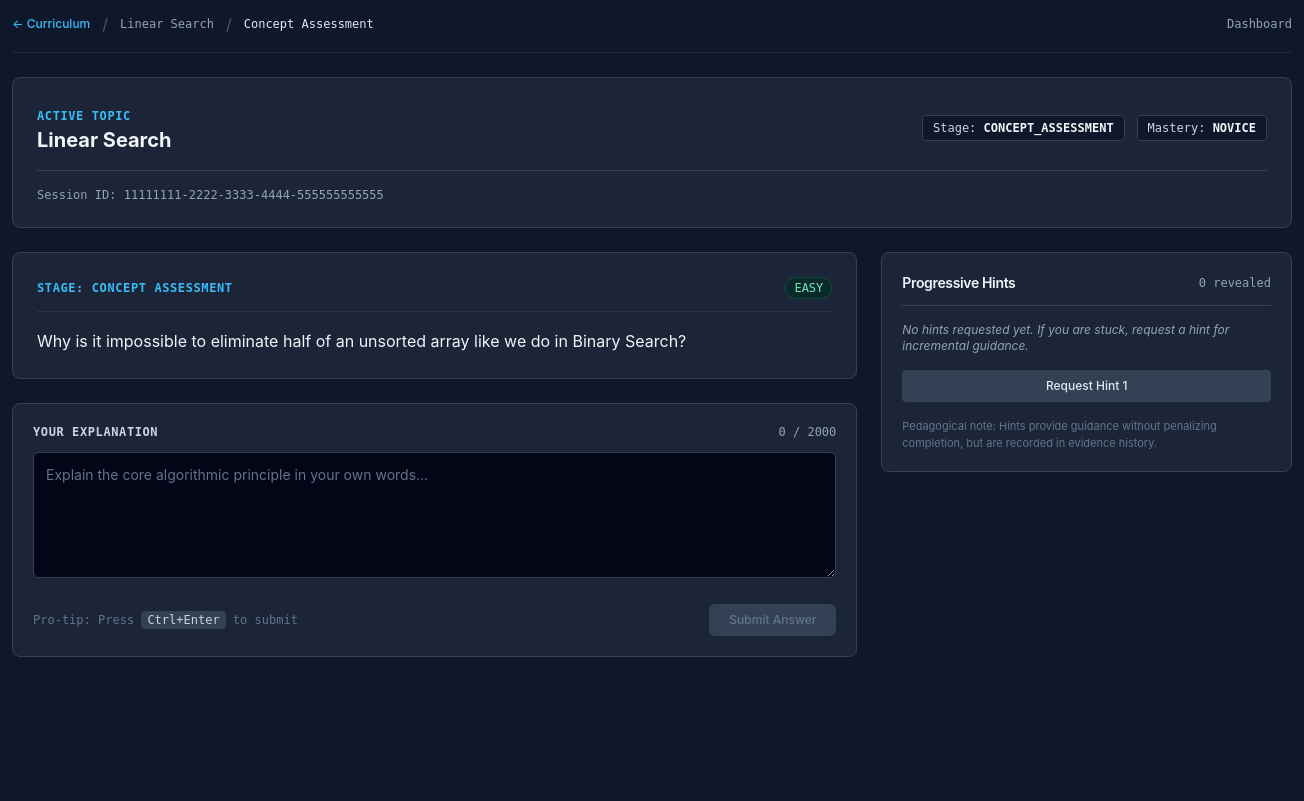
Test: LearningWorkspace Component › submits answer successfully, displays PASS evaluation, and advances to next stage
Expected: the element with test id "active-workspace" is shown, [12, 252, 1292, 657]
Expected: the button with test id "btn-submit-answer" is disabled, [709, 604, 836, 636]
# Type answer
Step 1. Type "In an unsorted array, no element order is known." into the text box labelled "Your Explanation" → (435, 515), box [33, 452, 836, 578]
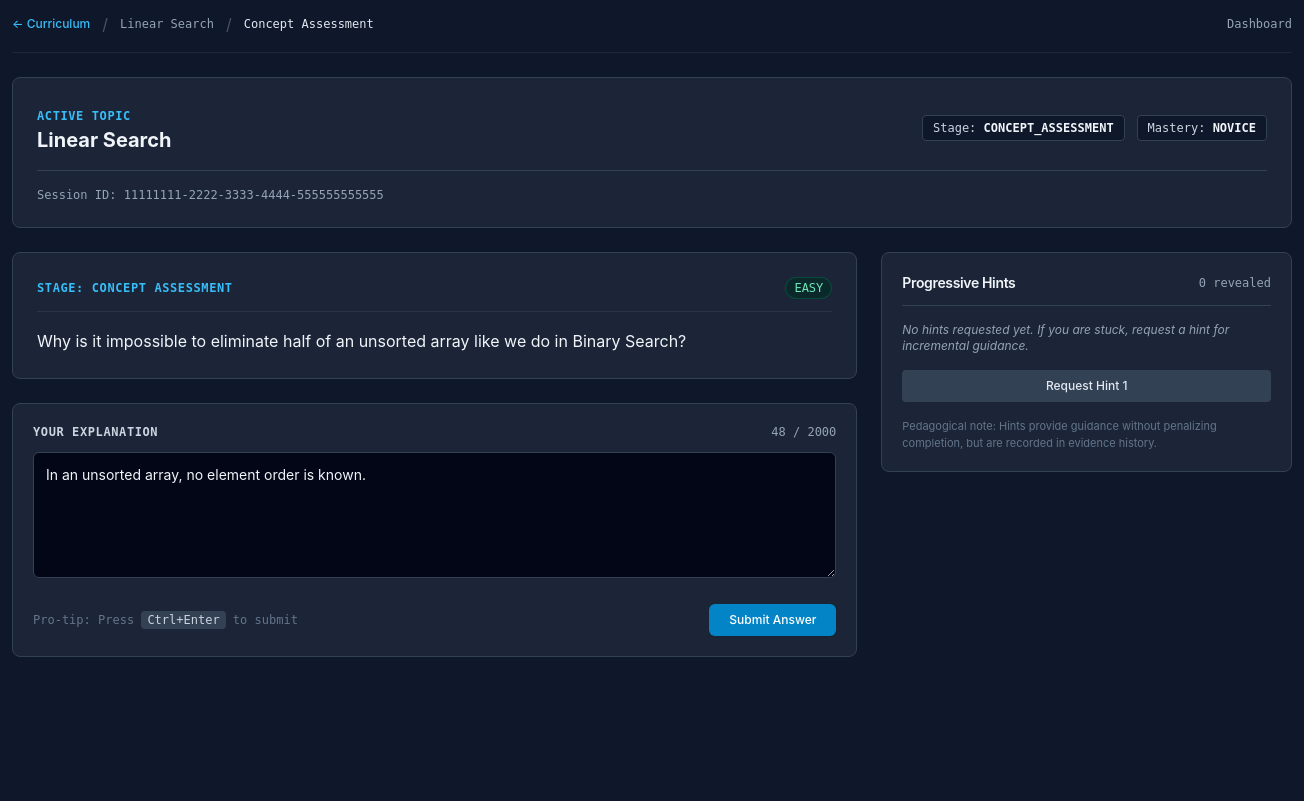
Expected: the button with test id "btn-submit-answer" is enabled
Step 2. Click the button with test id "btn-submit-answer" → (773, 620), box [709, 604, 836, 636]
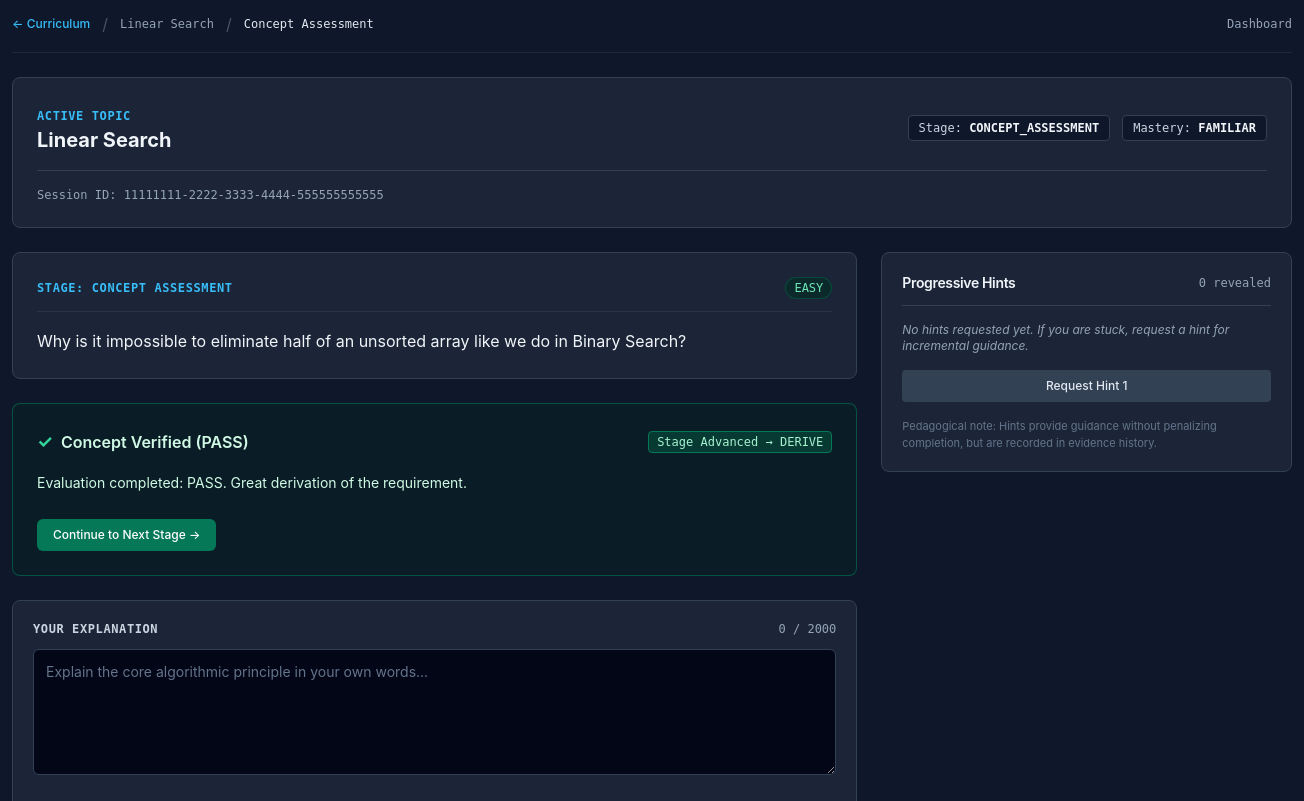
Expected: the message with test id "evaluation-feedback" is shown, [12, 403, 857, 576]
Expected: the heading "Concept Verified (PASS)" is shown, [61, 430, 249, 454]
Expected: the text "Stage Advanced → DERIVE" is shown, [648, 431, 832, 453]
# Click Continue to Next Stage
Step 3. Click the button with test id "btn-next-question" → (127, 535), box [37, 519, 216, 551]
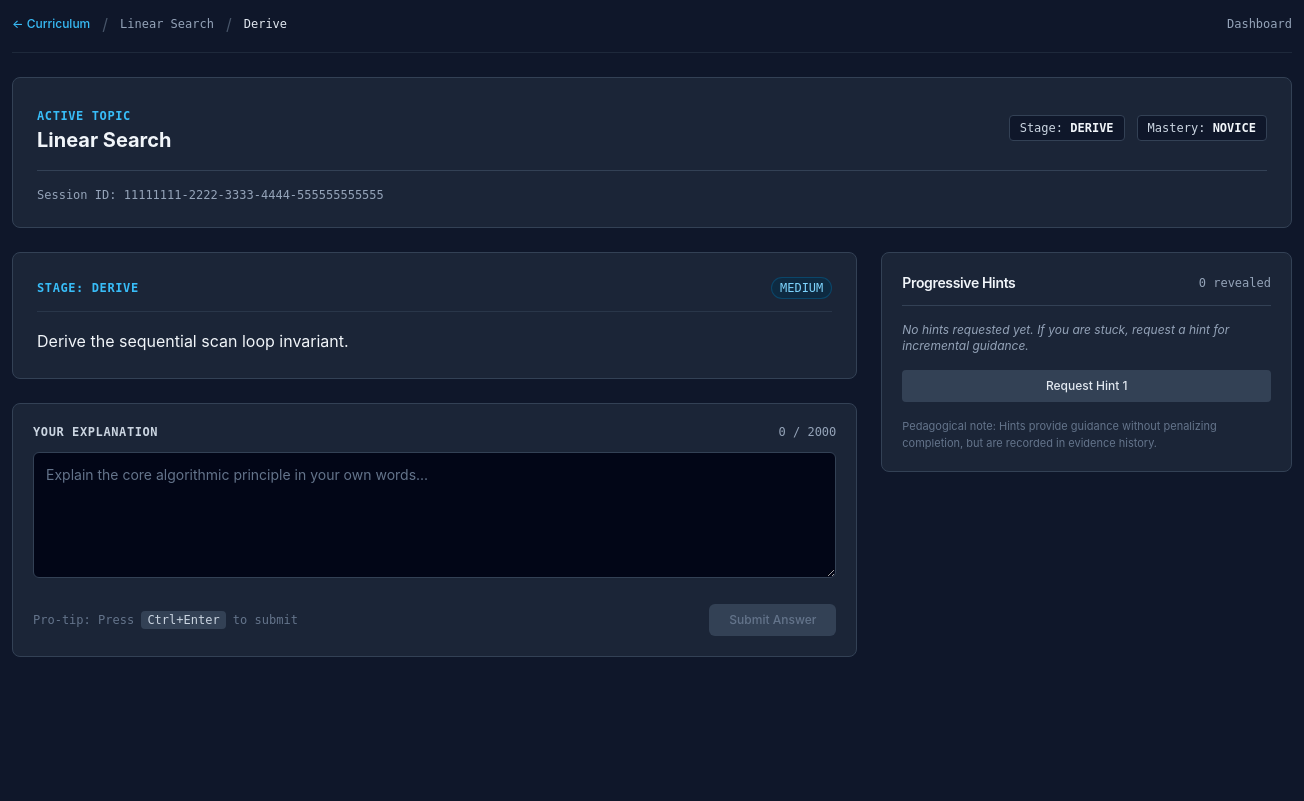
Expected: the text "Derive the sequential scan loop invariant." is shown, [37, 331, 349, 351]
Expected: the text "Stage: Derive" is shown, [37, 280, 139, 296]
